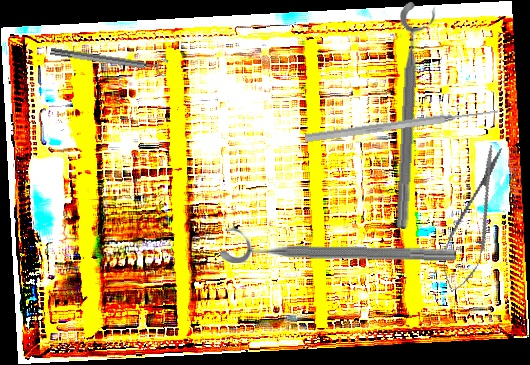Fixation Ring: (389, 1, 438, 230), (219, 225, 457, 268), (49, 40, 169, 79)
Micro Scissor: (432, 140, 516, 298)
Pusher: (304, 105, 499, 145)
